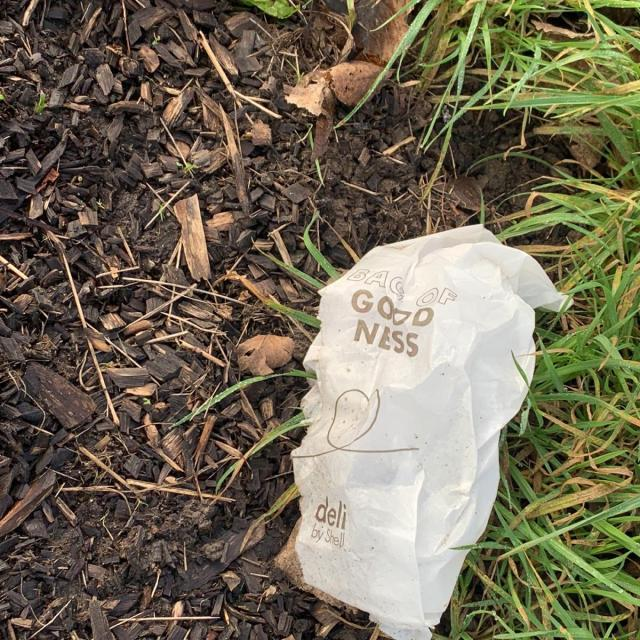Paper: (290, 222, 576, 640)
